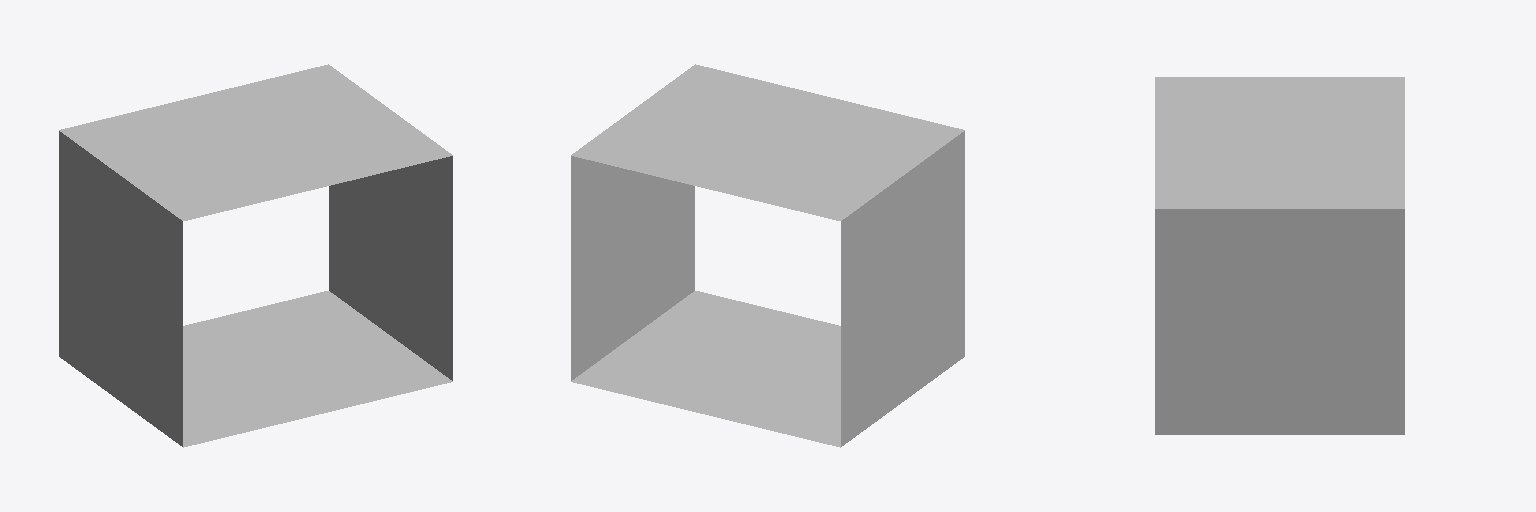
3 renders of one model, left to right at view 1: azimuth 30°, elevation 25°; view 2: azimuth 150°, elevation 25°; view 3: azimuth 270°, elevation 25°, orthographic.
Parts seen in each view (by area): view 1: plane_selection; view 2: plane_selection; view 3: plane_selection.
Boxes of the visible parts, x1,y1,x2,y2 form: plane_selection: [59, 64, 452, 447]; plane_selection: [571, 64, 964, 447]; plane_selection: [1155, 77, 1404, 434].
Size of the model in its own units: 10 by 8 by 8.